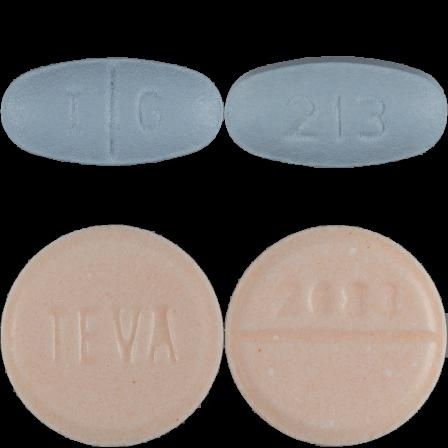68645-499: (0, 0, 224, 224)
